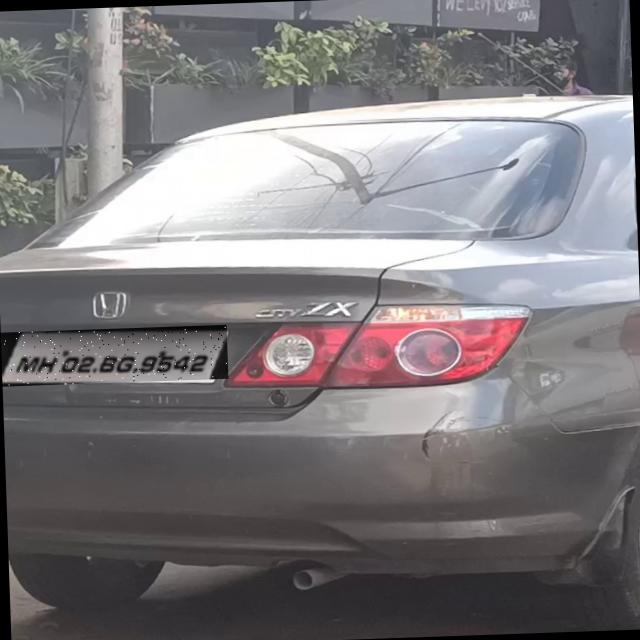Plate: (1, 325, 229, 387)
